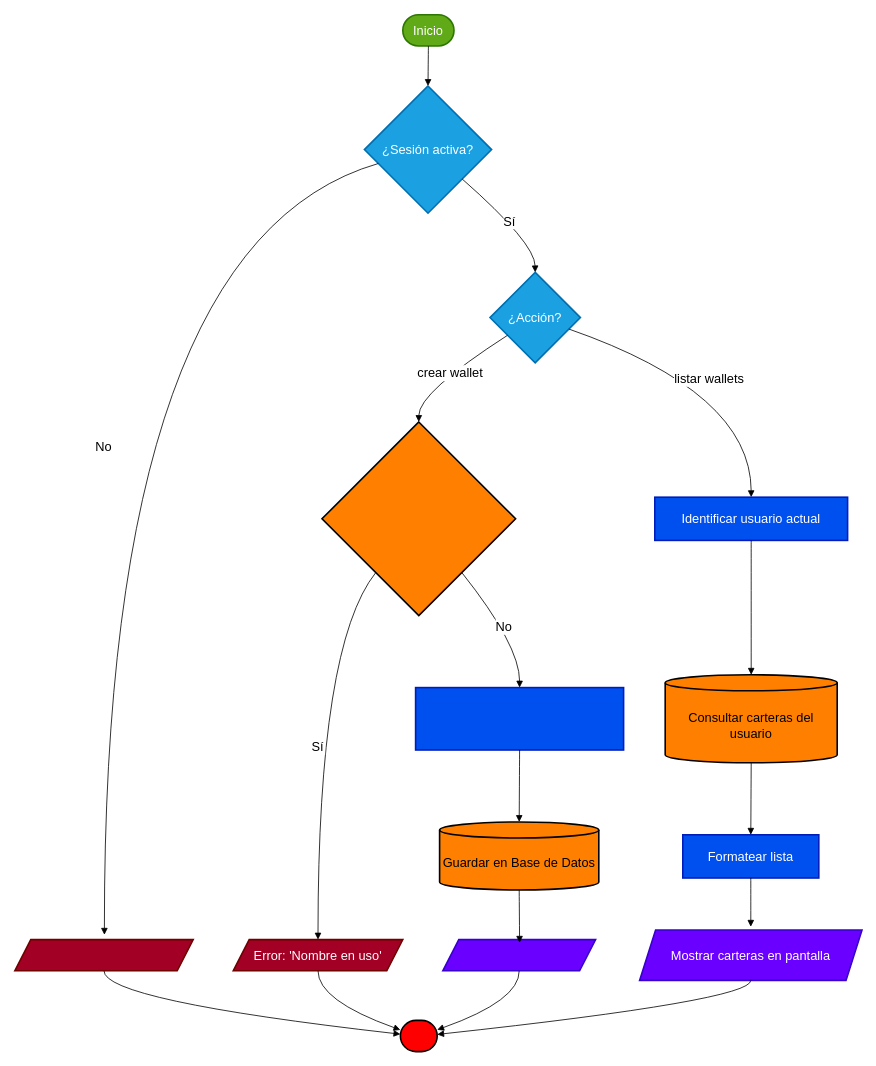
The diagram is 876 pixels wide and 1066 high, and some of its shapes have lost their labels. The shapes that lost their labels are listed below. From the top down, each one's box as (x1, y1, x2, y2) in pixels, then its label:
(321, 421, 516, 616): ¿Nombre duplicado en BD?
(414, 686, 624, 750): Configurar Cartera Paper 10k
(14, 938, 194, 971): Error: Acceso denegado
(442, 938, 596, 971): Confirmar creación
(399, 1019, 438, 1052): Fin
